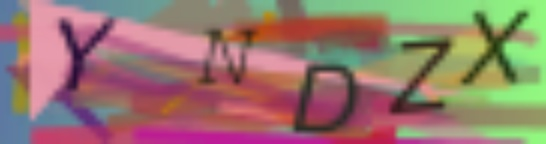D: (289, 62, 361, 138)
N: (197, 26, 257, 89)
X: (459, 8, 535, 88)
Y: (56, 14, 118, 96)
Z: (386, 39, 454, 113)
